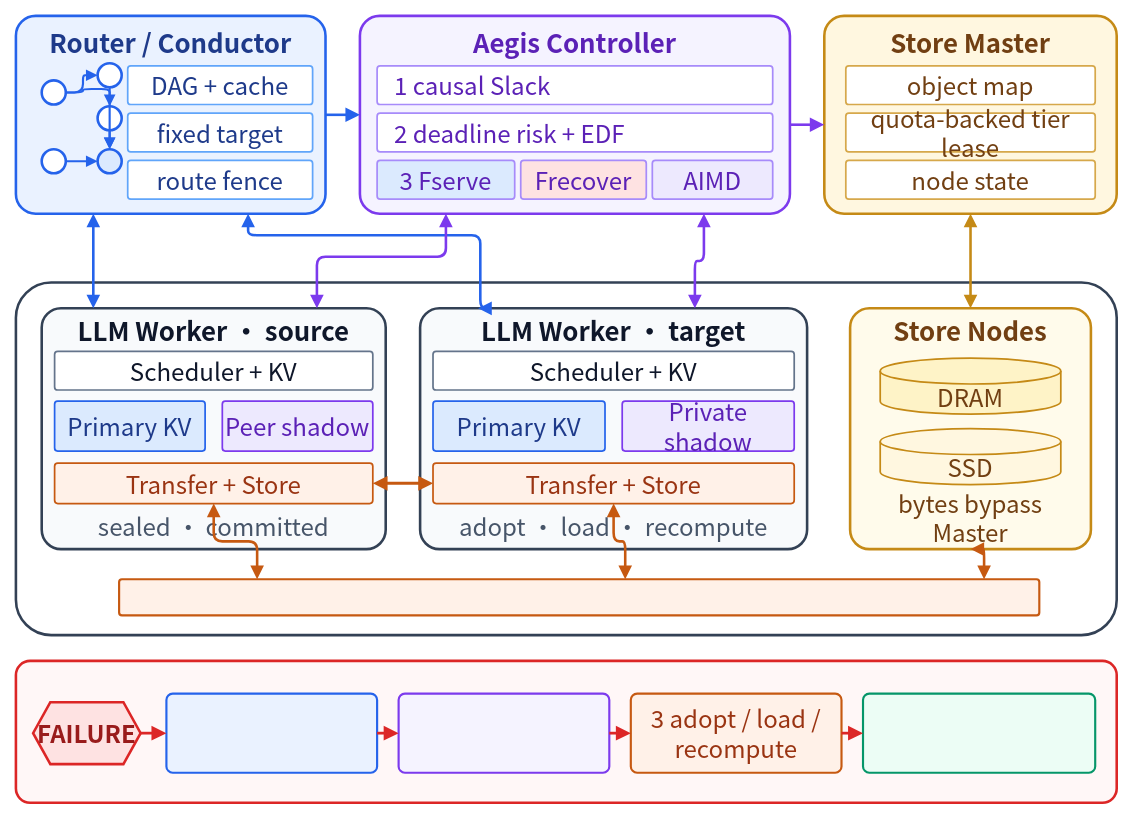
Image size: 1133x819. Some labels were removed from this diagram. Here are the shapes that lost their labels. From the top down, the centre of each, then its label:
At [579,597]: "Store KV data path".
At [271,732]: "1 fence + target".
At [503,732]: "2 EDF dispatch".
At [979,732]: "4 continuation + output fence".
